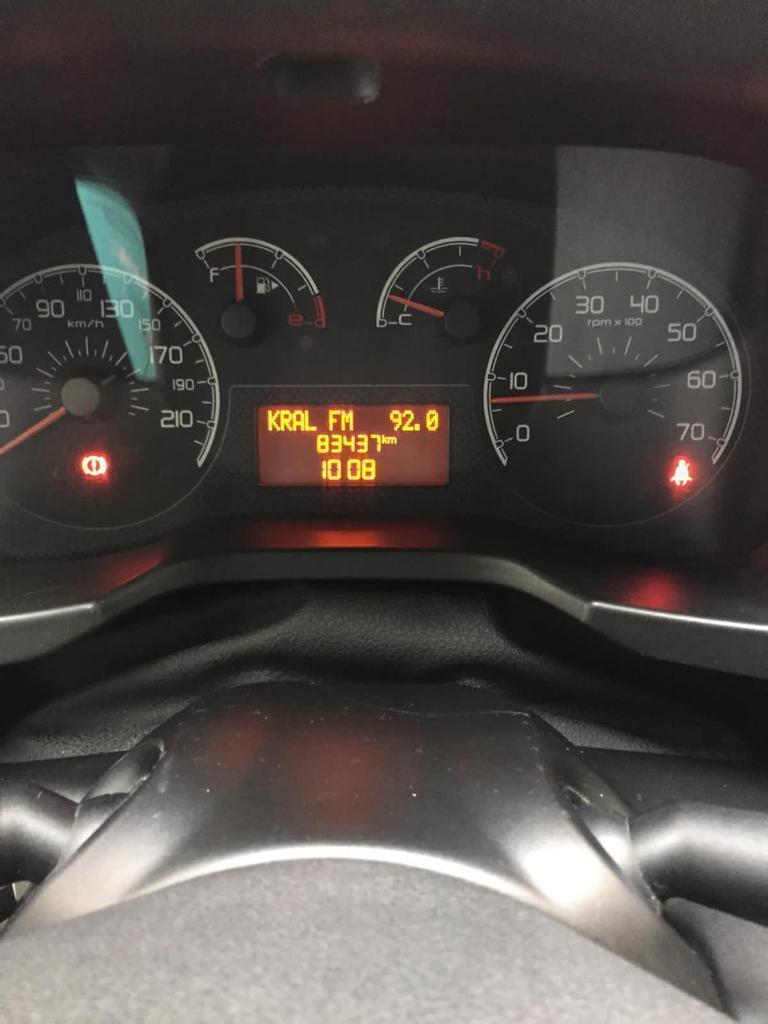,: (413, 422, 422, 432)
0: (424, 409, 440, 431), (345, 459, 360, 482), (327, 457, 341, 481)
1: (320, 459, 326, 481)
2: (402, 408, 414, 432)
3: (330, 433, 342, 454), (357, 433, 368, 453)
4: (343, 433, 355, 453)
7: (369, 432, 381, 453)
8: (361, 457, 376, 480), (316, 433, 329, 453)
9: (389, 408, 402, 431)
X: (267, 408, 280, 434), (304, 409, 318, 432), (280, 408, 292, 432), (328, 408, 340, 432), (341, 409, 354, 431), (292, 410, 304, 432), (387, 435, 397, 444), (381, 433, 387, 444)
odometer: (253, 402, 452, 485)
